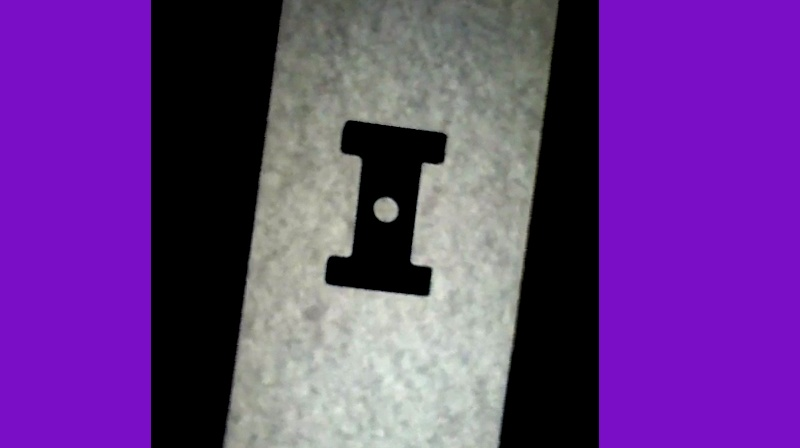O002: (323, 117, 450, 301)
